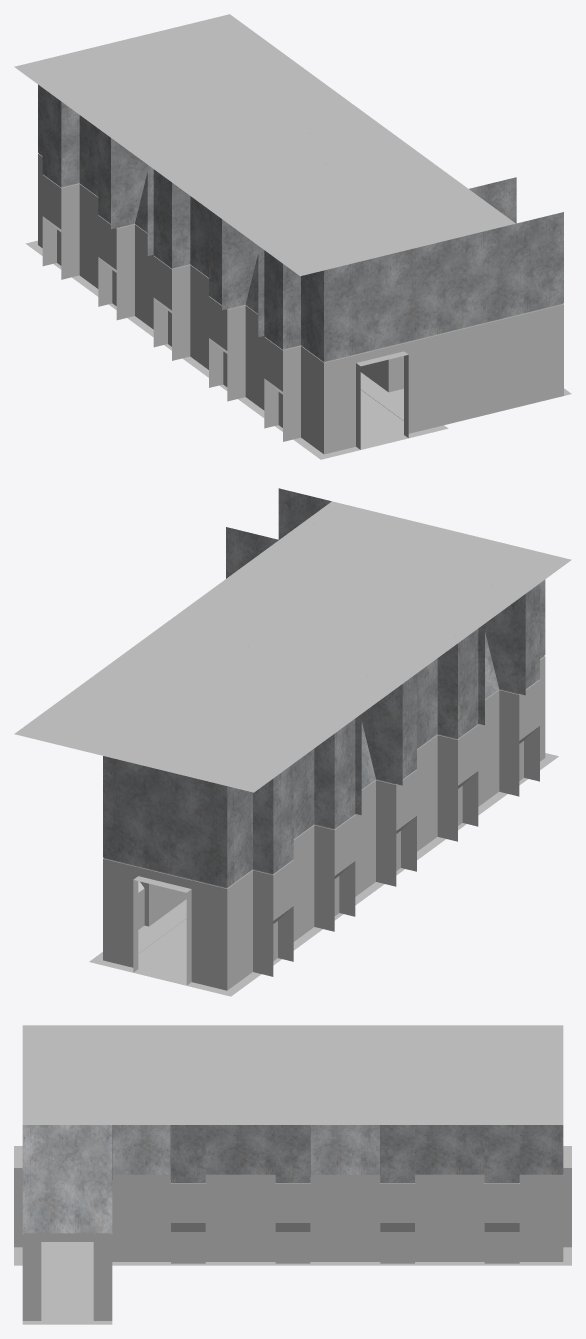
Rendered from Room2_4_B_LCZ.fbx.
3 renders of one model, top to bottom at view 1: azimuth 30°, elevation 25°; view 2: azimuth 150°, elevation 25°; view 3: azimuth 270°, elevation 25°, orthographic. The views are drawn at different scales.
Visible parts, largest first — view 1: concretefloor, metalpanels, whitewall, tilefloor, cable_black; view 2: concretefloor, metalpanels, whitewall, tilefloor, cable_black; view 3: concretefloor, whitewall, metalpanels, cable_black, tilefloor.
Boxes of the visible parts, bbox=[...] form: concretefloor: bbox=[14, 14, 571, 459]; metalpanels: bbox=[38, 84, 563, 361]; whitewall: bbox=[38, 154, 563, 454]; tilefloor: bbox=[340, 390, 424, 453]; cable_black: bbox=[38, 153, 563, 362]; concretefloor: bbox=[14, 501, 571, 996]; metalpanels: bbox=[103, 488, 545, 887]; whitewall: bbox=[103, 656, 545, 990]; tilefloor: bbox=[116, 919, 208, 989]; cable_black: bbox=[103, 656, 544, 888]; concretefloor: bbox=[14, 1025, 571, 1324]; whitewall: bbox=[14, 1146, 571, 1320]; metalpanels: bbox=[22, 1125, 563, 1233]; cable_black: bbox=[22, 1174, 562, 1234]; tilefloor: bbox=[14, 1245, 571, 1254].
Size of the model in its own units: 10.88 by 7.04 by 20.48.
